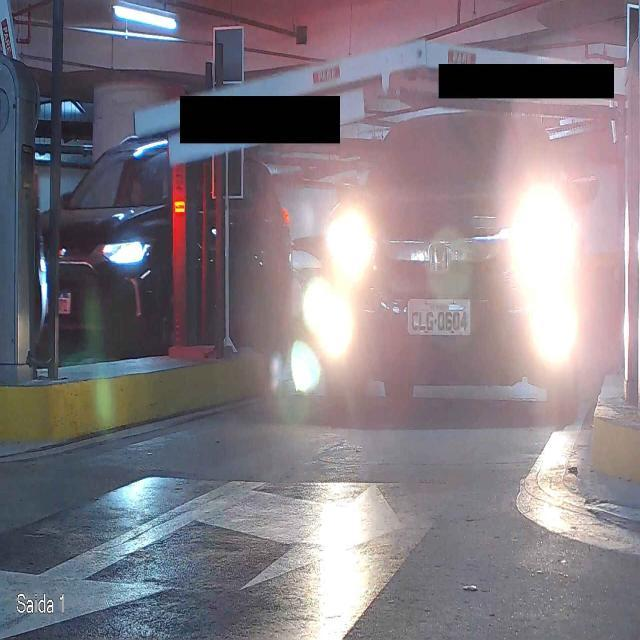old_plate: (406, 296, 474, 338)
